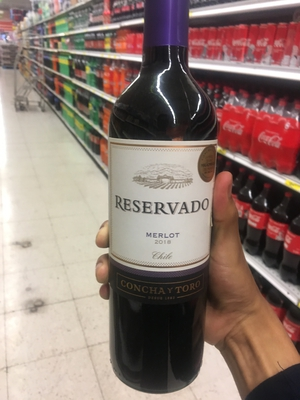reservado merlot: (101, 2, 227, 392)
